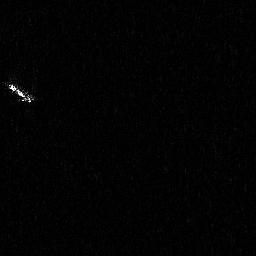ship: (5, 81, 35, 103)
